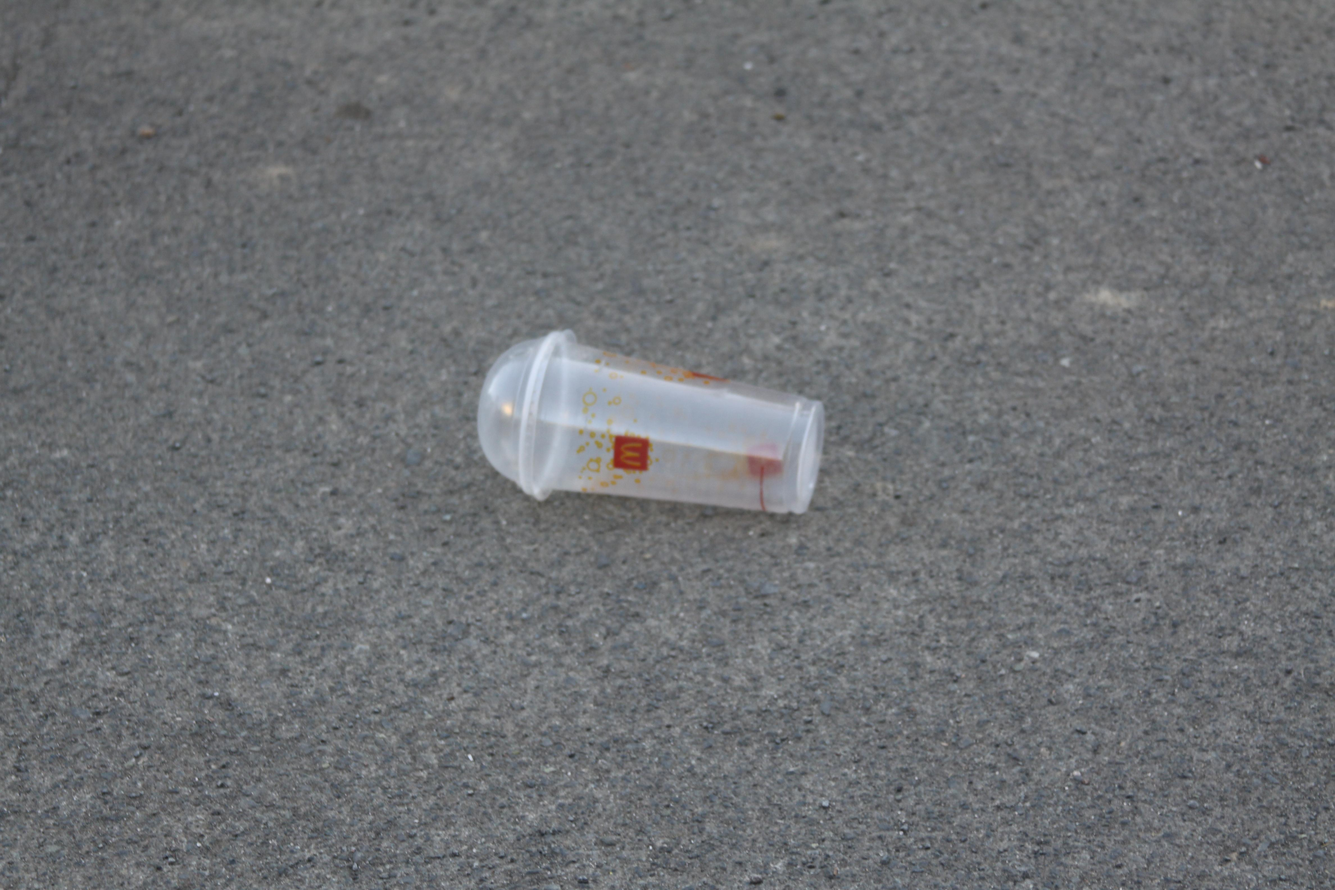Plastic: (476, 326, 827, 516)
